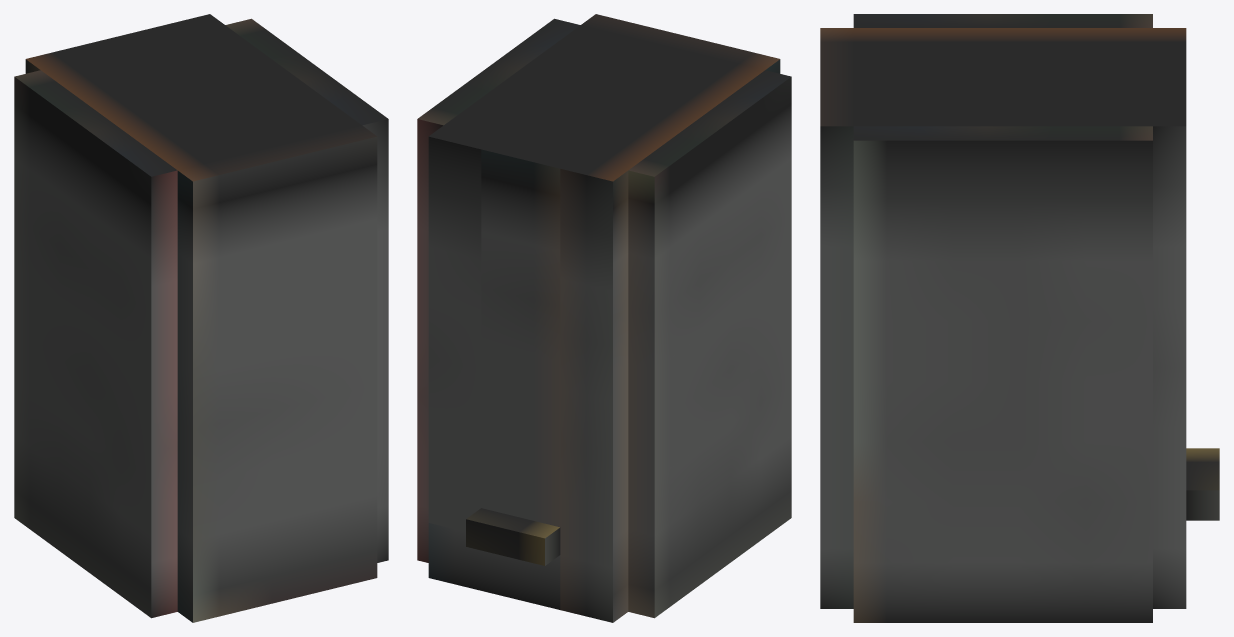
Rendered from BinSteelLarge_00.obj.
The picture shows the model from 3 angles, left to right: view 1: azimuth 30°, elevation 25°; view 2: azimuth 150°, elevation 25°; view 3: azimuth 270°, elevation 25°; orthographic projection. The views are drawn at different scales.
Parts seen in each view (by area): view 1: BinSteelLarge_00; view 2: BinSteelLarge_00; view 3: BinSteelLarge_00.
Boxes of the visible parts, box(x1,y1,x2,y2) form: BinSteelLarge_00: box(14, 14, 388, 622); BinSteelLarge_00: box(417, 14, 791, 622); BinSteelLarge_00: box(820, 14, 1219, 622).
Size of the model in its own units: 0.45 by 0.8 by 0.6.
